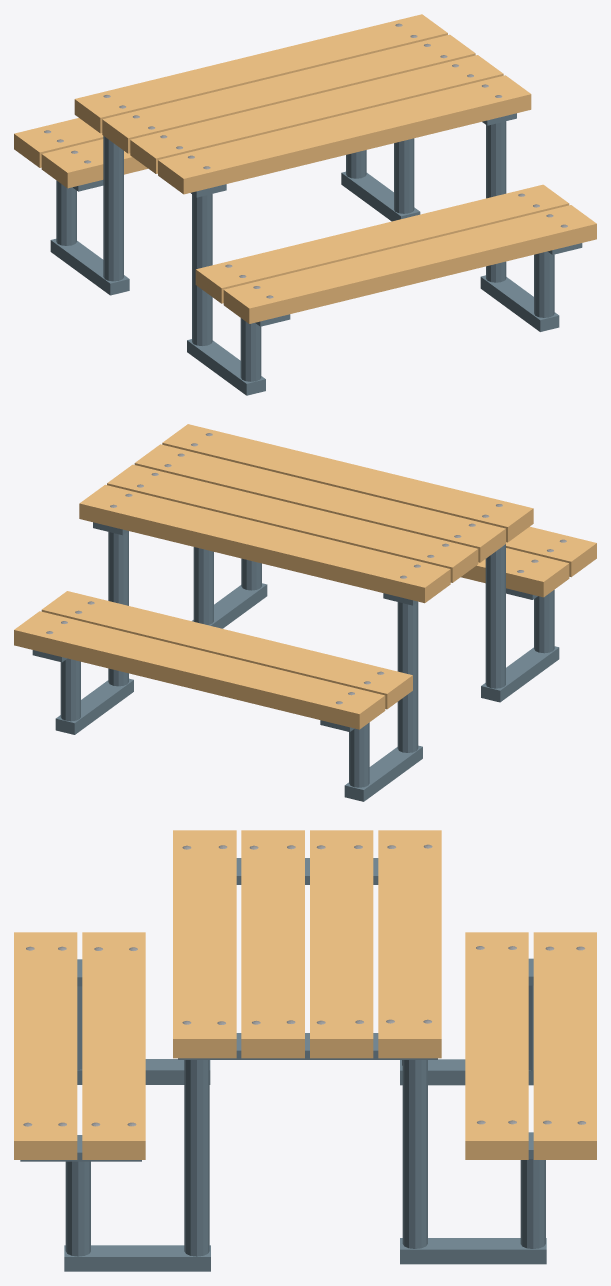
File: picnic_table.glb
3 renders of one model, top to bottom at view 1: azimuth 30°, elevation 25°; view 2: azimuth 150°, elevation 25°; view 3: azimuth 270°, elevation 25°, orthographic. The views are drawn at different scales.
Visible parts, largest first — view 1: group1002976715, group1625605898, group2064035466, group1446242598, group835214680, group798708757, group660802253, group106795156, group810697107, group1288271276, group1606472731, group1744544365 (+8 smaller); view 2: group1446242598, group1288271276, group835214680, group798708757, group810697107, group1002976715, group660802253, group106795156, group2064035466, group1625605898, group508247954, group1355616518 (+8 smaller); view 3: group835214680, group798708757, group1002976715, group1446242598, group810697107, group1288271276, group1625605898, group2064035466, group1606472731, group508247954, group483187912, group1744544365 (+5 smaller).
Part boxes in pixels (<box>): group1002976715: <box>158,75,531,194</box>; group1625605898: <box>223,205,596,323</box>; group2064035466: <box>195,184,569,303</box>; group1446242598: <box>74,14,447,133</box>; group835214680: <box>102,34,475,153</box>; group798708757: <box>130,55,503,173</box>; group660802253: <box>103,136,123,281</box>; group106795156: <box>192,194,212,345</box>; group810697107: <box>41,139,147,188</box>; group1288271276: <box>14,118,103,167</box>; group1606472731: <box>486,121,506,282</box>; group1744544365: <box>480,275,559,331</box>; group1446242598: <box>79,484,450,603</box>; group1288271276: <box>14,611,385,729</box>; group835214680: <box>107,464,478,582</box>; group798708757: <box>134,444,505,562</box>; group810697107: <box>41,591,412,709</box>; group1002976715: <box>162,424,533,542</box>; group660802253: <box>397,602,418,752</box>; group106795156: <box>485,544,505,688</box>; group2064035466: <box>461,548,569,597</box>; group1625605898: <box>506,526,596,577</box>; group508247954: <box>108,531,128,686</box>; group1355616518: <box>344,745,422,801</box>; group835214680: <box>310,830,373,1058</box>; group798708757: <box>241,830,304,1058</box>; group1002976715: <box>173,830,236,1058</box>; group1446242598: <box>378,830,441,1058</box>; group810697107: <box>465,932,528,1159</box>; group1288271276: <box>533,932,596,1159</box>; group1625605898: <box>14,932,77,1159</box>; group2064035466: <box>82,932,145,1159</box>; group1606472731: <box>184,1060,209,1256</box>; group508247954: <box>402,1060,427,1248</box>; group483187912: <box>400,1238,546,1264</box>; group1744544365: <box>64,1245,210,1271</box>.
Bounding box in the file's own units: 4 × 2.16 × 4.69.
